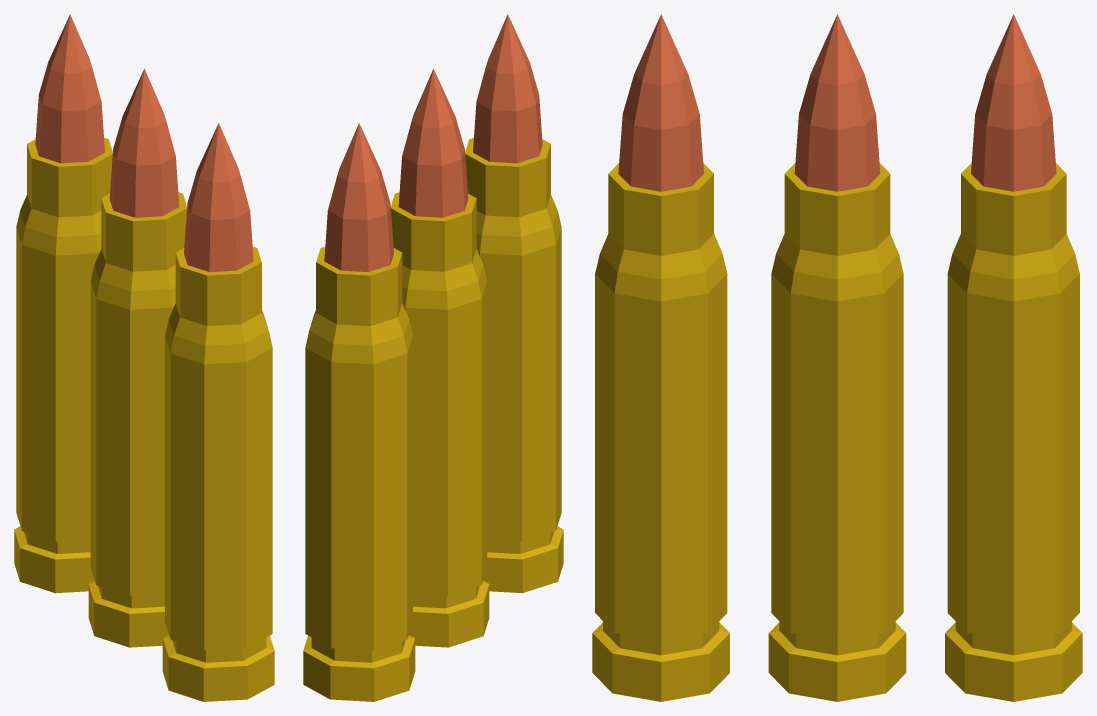
The model's file is Bullet.fbx.
3 renders of one model, left to right at view 1: azimuth 30°, elevation 25°; view 2: azimuth 150°, elevation 25°; view 3: azimuth 270°, elevation 25°, orthographic. The views are drawn at different scales.
Parts seen in each view (by area): view 1: Cylinder.002, Cylinder, Cylinder.001; view 2: Cylinder.001, Cylinder, Cylinder.002; view 3: Cylinder, Cylinder.002, Cylinder.001.
Boxes of the visible parts, <box> form: Cylinder.002: <box>162,123,274,701</box>; Cylinder: <box>88,68,186,647</box>; Cylinder.001: <box>14,14,112,593</box>; Cylinder.001: <box>303,123,415,701</box>; Cylinder: <box>391,68,489,647</box>; Cylinder.002: <box>465,14,563,593</box>; Cylinder: <box>768,14,906,701</box>; Cylinder.002: <box>592,14,729,701</box>; Cylinder.001: <box>945,14,1082,701</box>.
Bounding box in the file's own units: 62.4 × 330 × 222.
